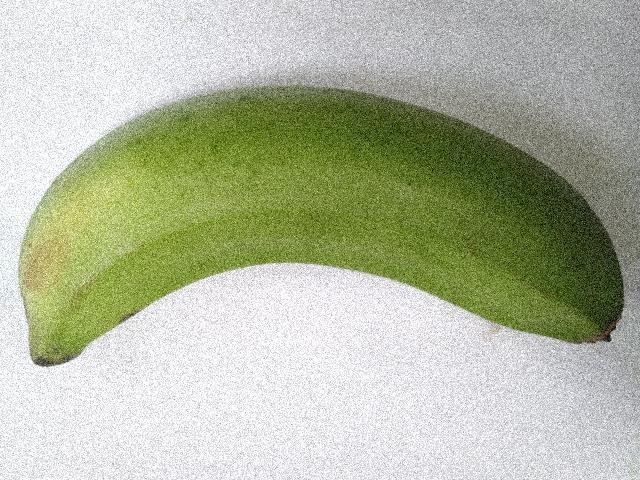freshunripe: (7, 73, 639, 381)
